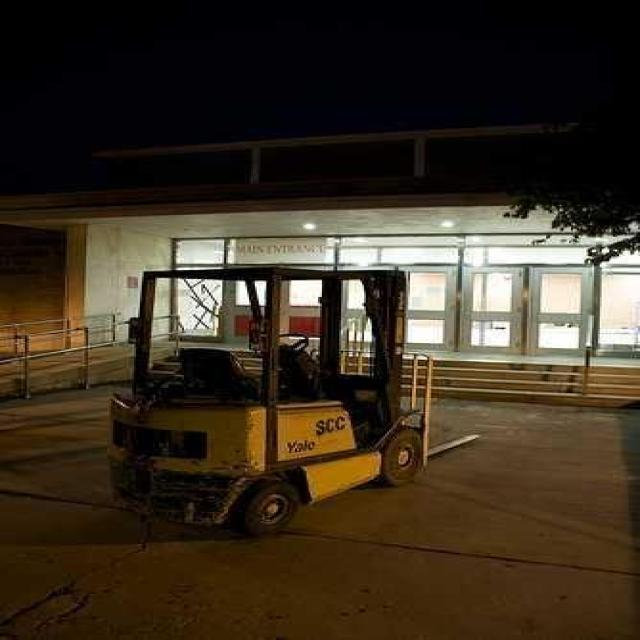forklift: (115, 259, 433, 533)
